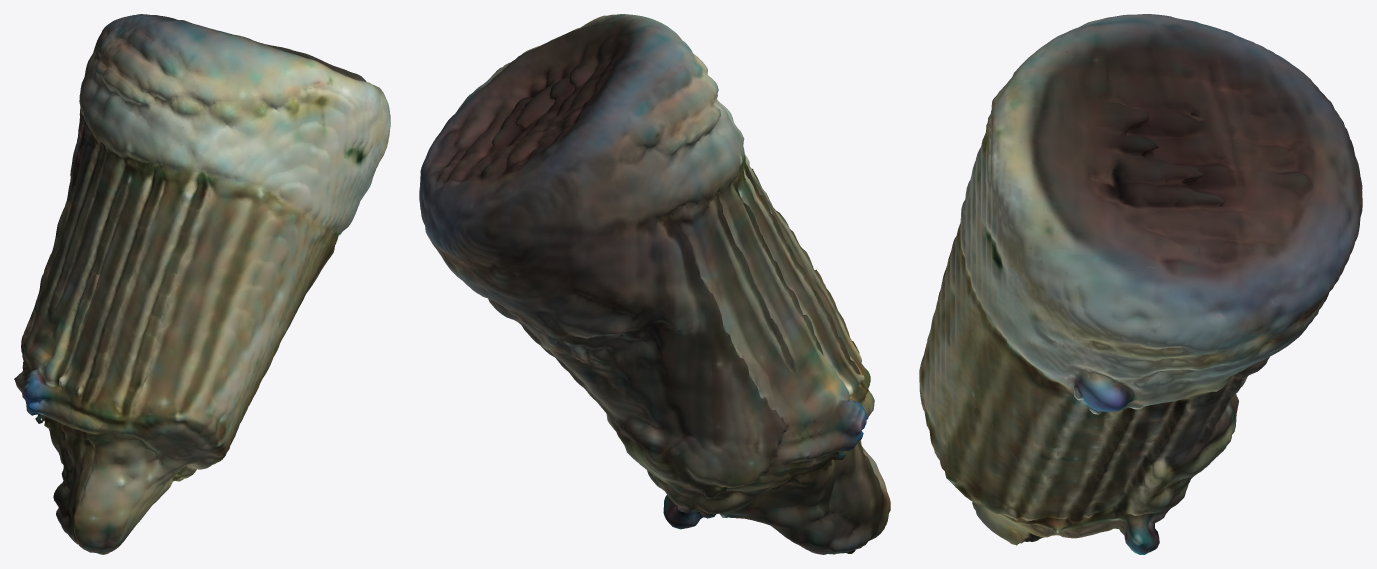
The picture shows the model from 3 angles, left to right: view 1: azimuth 30°, elevation 25°; view 2: azimuth 150°, elevation 25°; view 3: azimuth 270°, elevation 25°; orthographic projection. The views are drawn at different scales.
Size of the model in its own units: 0.7287 by 0.8859 by 0.59.
Materials: 1 (1 with a texture image).
